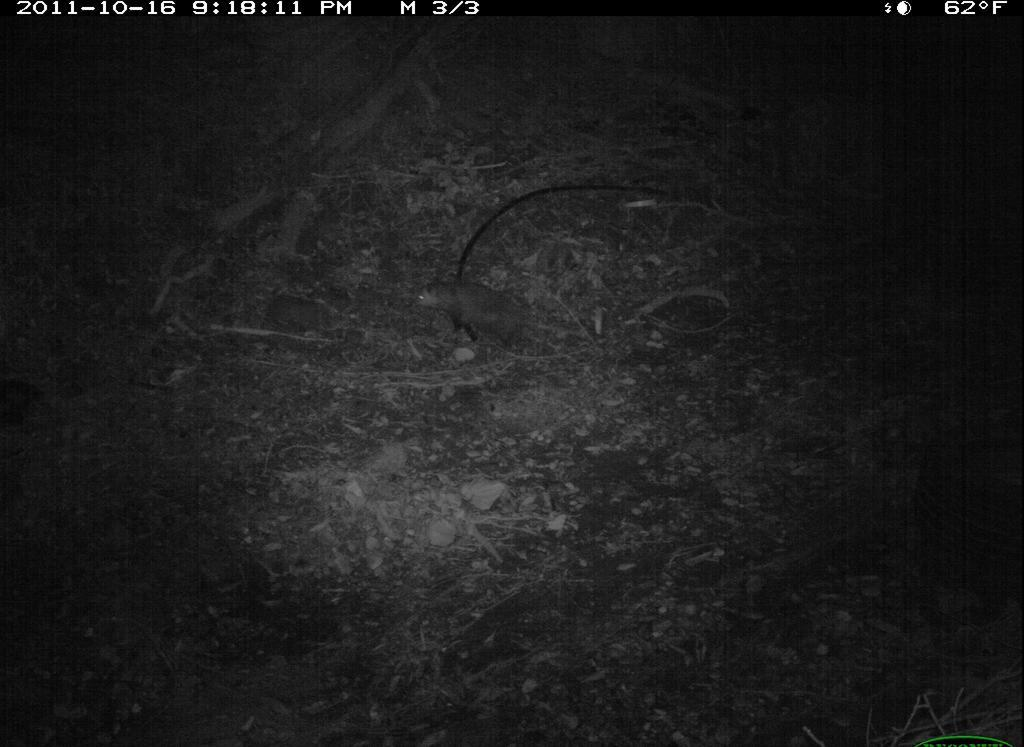opossum: (409, 267, 537, 353)
